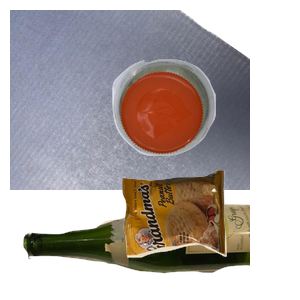cardboard: (10, 10, 250, 190)
glass: (21, 201, 261, 300)
plastic: (110, 57, 300, 205)
trash: (120, 168, 300, 300)
